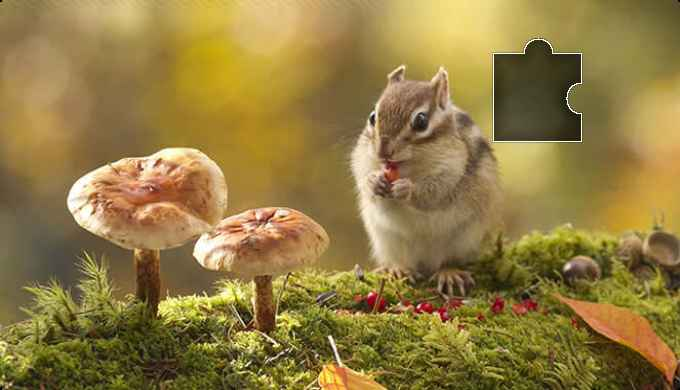gap: (494, 38, 583, 141)
